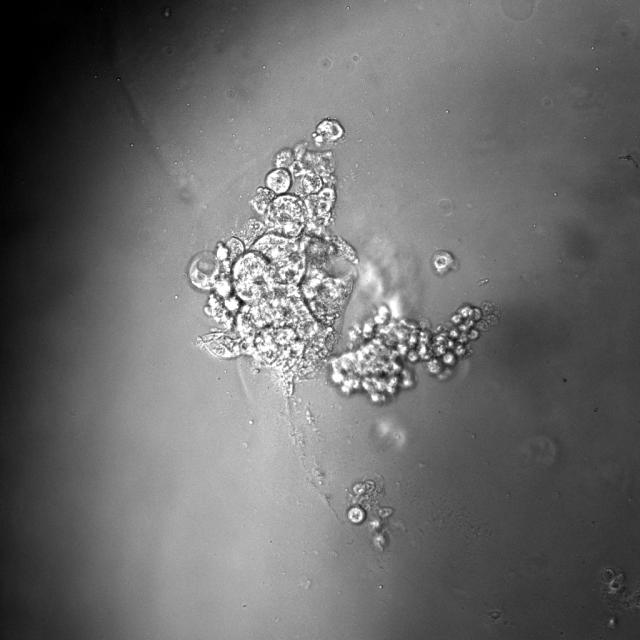organoid: (188, 118, 499, 402), (346, 479, 393, 550), (601, 568, 639, 612), (430, 250, 458, 276), (489, 611, 501, 620)
